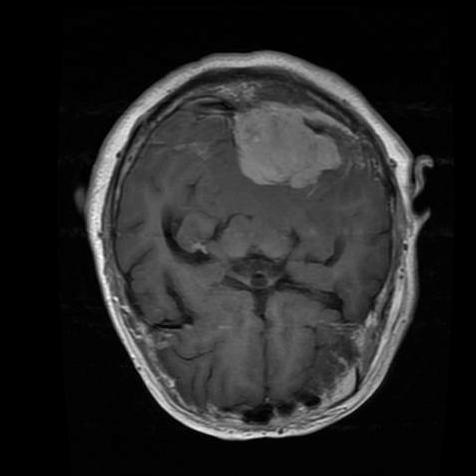Tumour-Meningioma: (224, 81, 366, 212)
